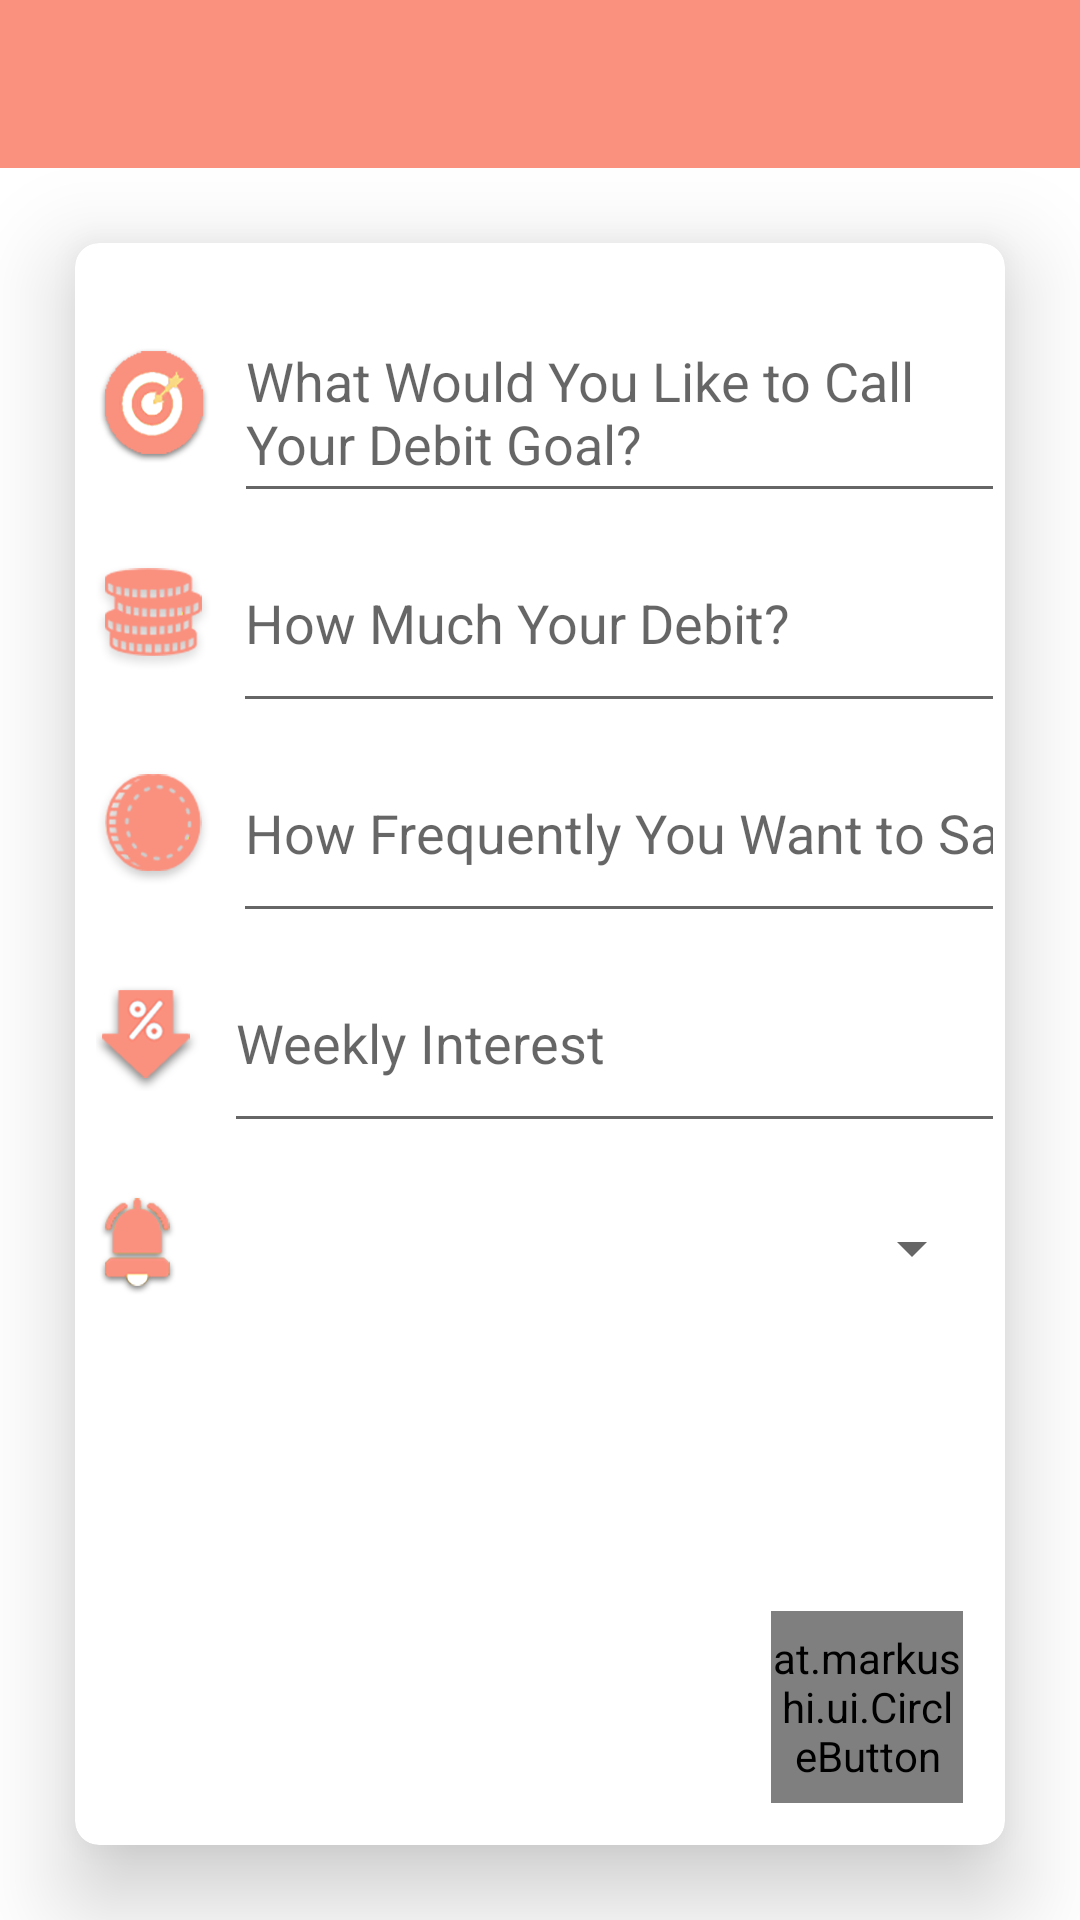

Where icons sit on this 1080 x 1920 app screen, as (x1, y1, x2, y2):
debit alarm: (102, 1198, 172, 1291)
debit coin: (105, 774, 202, 877)
debit coins: (105, 568, 202, 658)
